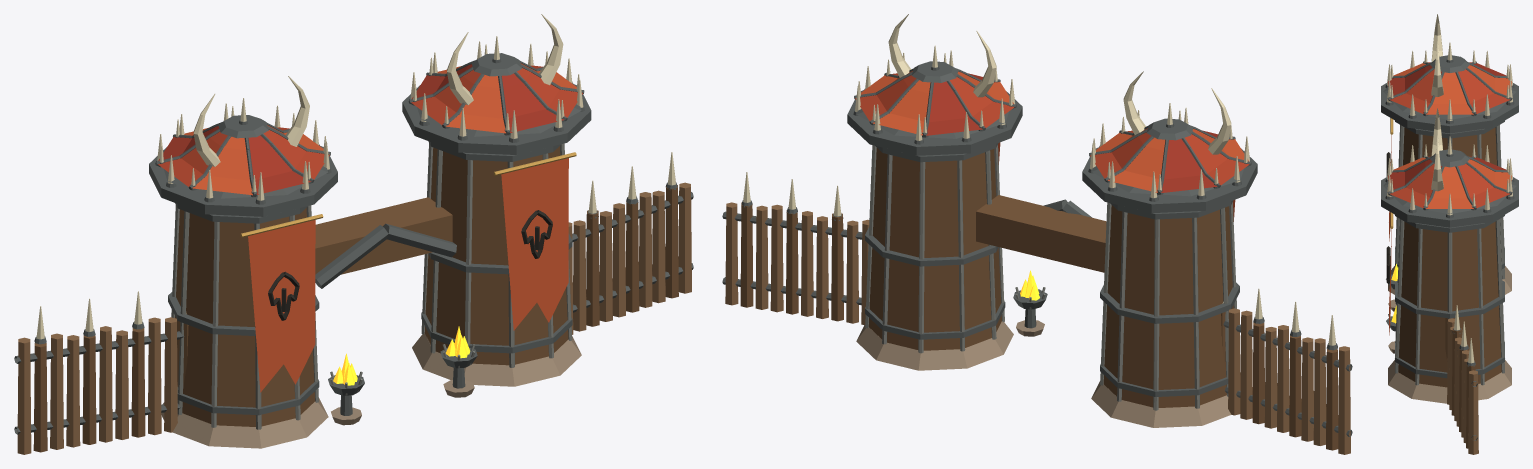
The picture shows the model from 3 angles, left to right: view 1: azimuth 30°, elevation 25°; view 2: azimuth 150°, elevation 25°; view 3: azimuth 270°, elevation 25°; orthographic projection. The views are drawn at different scales.
Visible parts, largest first — view 1: Solid_Gate_wood, Detail_Gate_iron, Detail_Gate_red2, Solid_Gate_wood2, Solid_Gate_stone, Detail_Gate_edge, Detail_Gate_ivory, Detail_Gate_red3, Detail_Gate_red, Detail_Gate_dark, Detail_Gate_fire, Detail_Gate_gold; view 2: Solid_Gate_wood, Detail_Gate_iron, Solid_Gate_wood2, Detail_Gate_edge, Solid_Gate_stone, Detail_Gate_ivory, Detail_Gate_red2, Detail_Gate_red, Detail_Gate_red3; view 3: Solid_Gate_wood, Detail_Gate_iron, Detail_Gate_edge, Detail_Gate_red, Detail_Gate_red2, Detail_Gate_ivory, Solid_Gate_wood2, Solid_Gate_stone, Detail_Gate_red3, Detail_Gate_dark.
Part boxes in pixels (<box>): Solid_Gate_wood: <box>33,146,678,452</box>; Detail_Gate_iron: <box>14,53,693,434</box>; Detail_Gate_red2: <box>184,63,576,392</box>; Solid_Gate_wood2: <box>17,182,691,454</box>; Solid_Gate_stone: <box>161,333,581,448</box>; Detail_Gate_edge: <box>171,143,572,429</box>; Detail_Gate_ivory: <box>36,14,675,339</box>; Detail_Gate_red3: <box>158,64,564,194</box>; Detail_Gate_red: <box>158,65,582,186</box>; Detail_Gate_dark: <box>268,210,552,320</box>; Detail_Gate_fire: <box>333,326,470,385</box>; Detail_Gate_gold: <box>240,152,576,237</box>; Solid_Gate_wood: <box>740,147,1338,450</box>; Detail_Gate_iron: <box>722,61,1352,436</box>; Solid_Gate_wood2: <box>725,202,1350,454</box>; Detail_Gate_edge: <box>865,145,1236,410</box>; Solid_Gate_stone: <box>856,320,1231,427</box>; Detail_Gate_ivory: <box>743,14,1335,345</box>; Detail_Gate_red2: <box>861,71,1248,221</box>; Detail_Gate_red: <box>855,73,1249,185</box>; Detail_Gate_red3: <box>926,73,1217,192</box>; Solid_Gate_wood: <box>1398,127,1501,448</box>; Detail_Gate_iron: <box>1381,55,1518,440</box>; Detail_Gate_edge: <box>1388,125,1504,385</box>; Detail_Gate_red: <box>1389,62,1510,207</box>; Detail_Gate_red2: <box>1389,63,1511,335</box>; Detail_Gate_ivory: <box>1387,14,1512,363</box>; Solid_Gate_wood2: <box>1447,318,1478,454</box>; Solid_Gate_stone: <box>1388,266,1511,403</box>; Detail_Gate_red3: <box>1388,63,1506,189</box>; Detail_Gate_dark: <box>1386,152,1390,283</box>.
Bounding box in the file's own units: 48 × 22.7 × 11.13.
